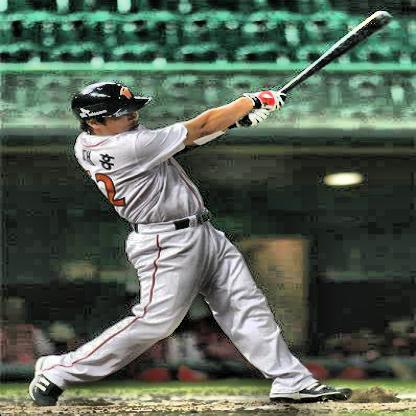z: (328, 171, 359, 188)
